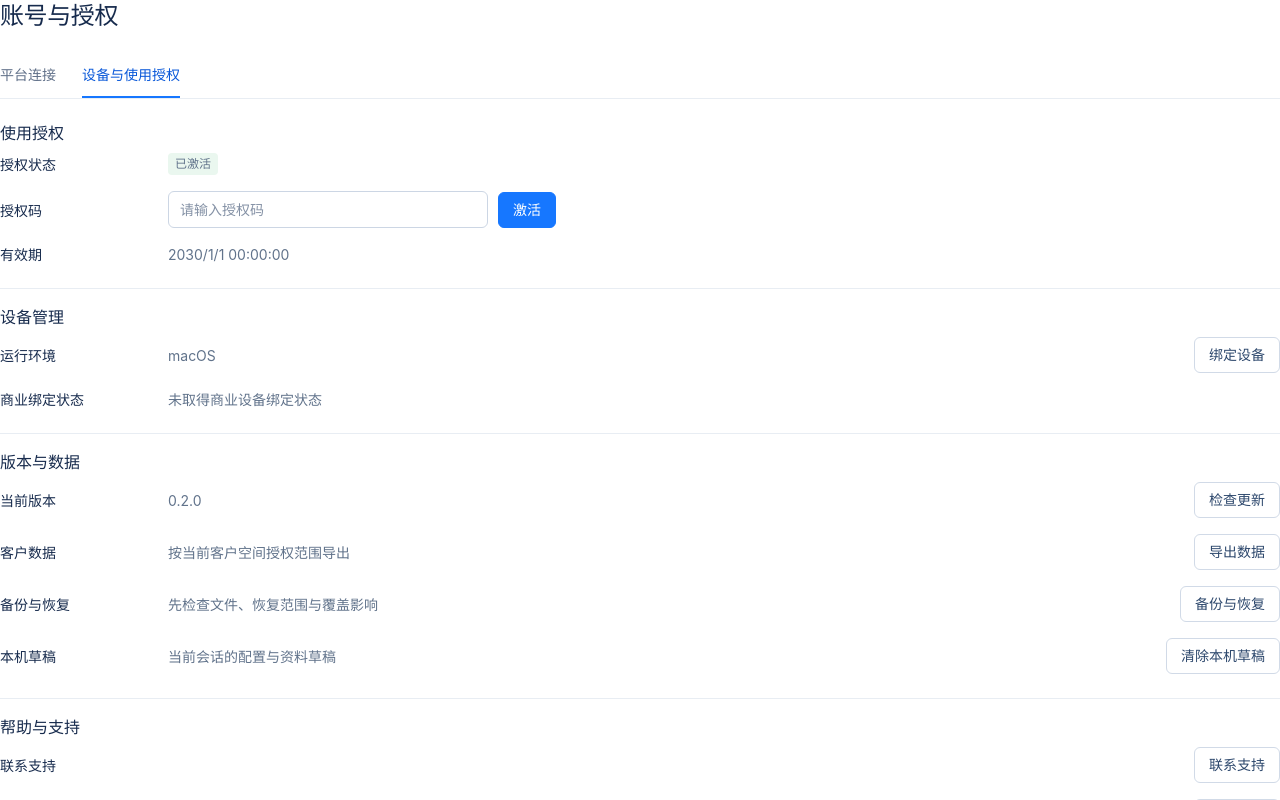
Scenario: P18 available management contracts › does not treat unknown device status as permission to prepare a binding
Expected: the text "已激活" is shown, top-left (168, 153), bottom-right (218, 175)
Click the button "绑定设备".
click(1237, 355)  # box top-left (1194, 337), bottom-right (1279, 373)
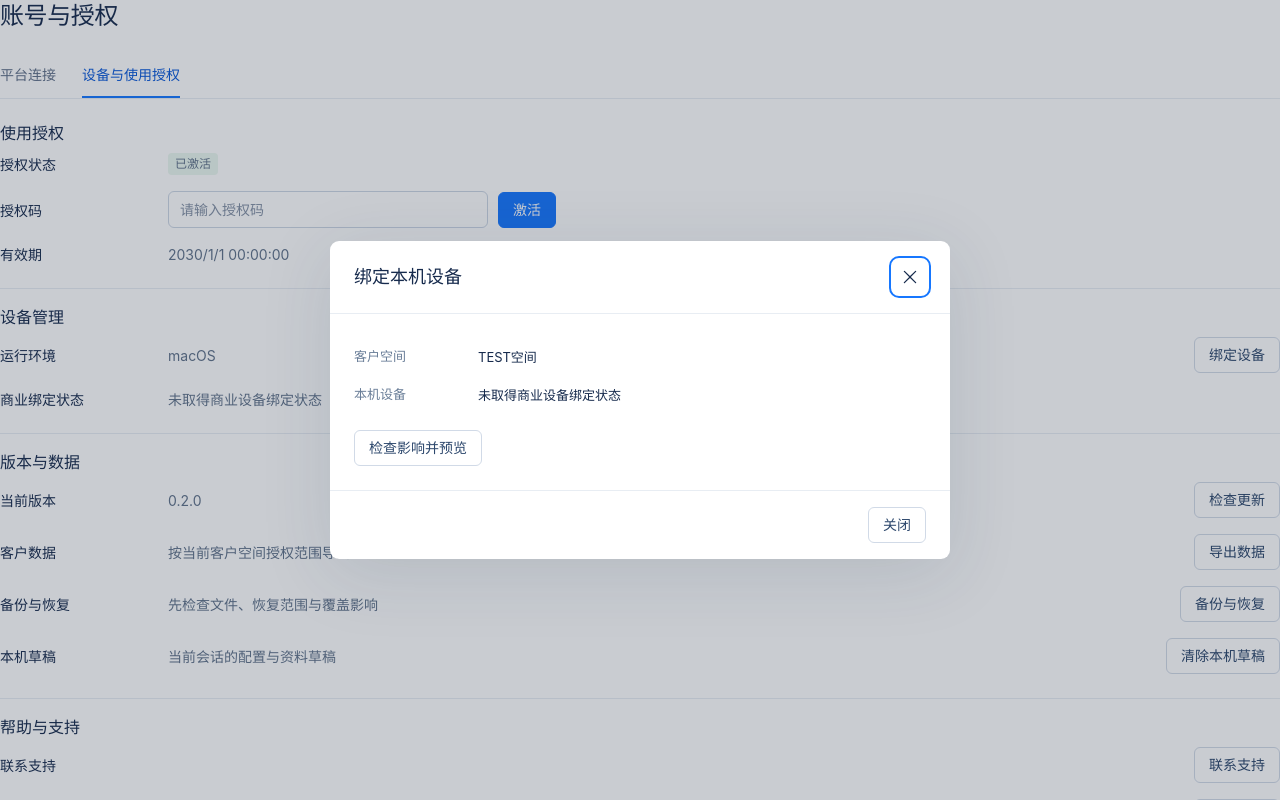
Click the button "检查影响并预览".
click(418, 448)  # box top-left (354, 430), bottom-right (482, 466)
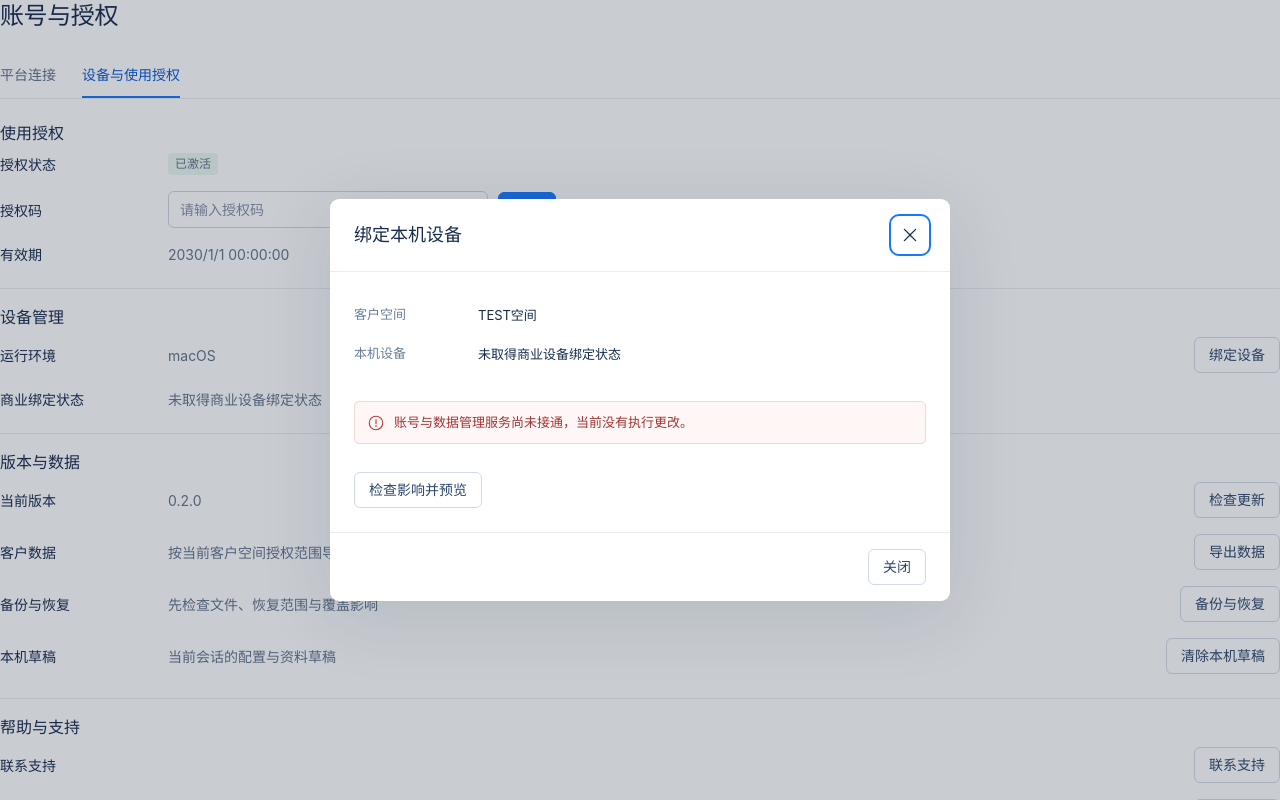
Now the text "账号与数据管理服务尚未接通，当前没有执行更改。" is shown, box top-left (394, 414), bottom-right (693, 430)
